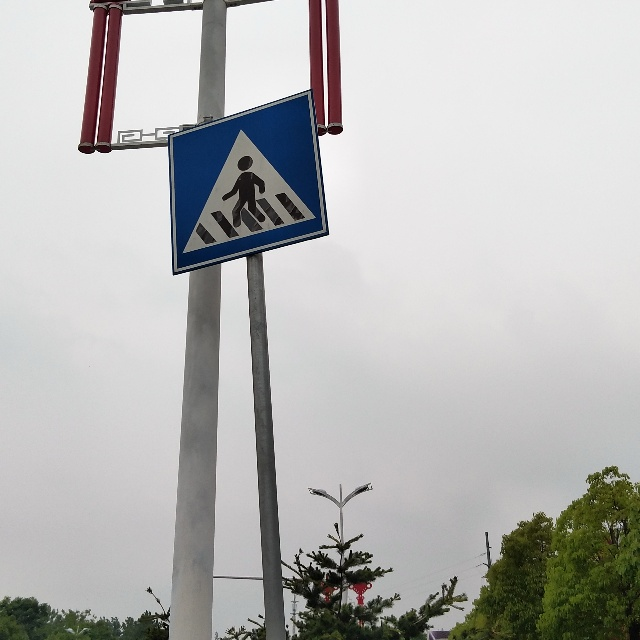crosswalk: (171, 128, 321, 251)
